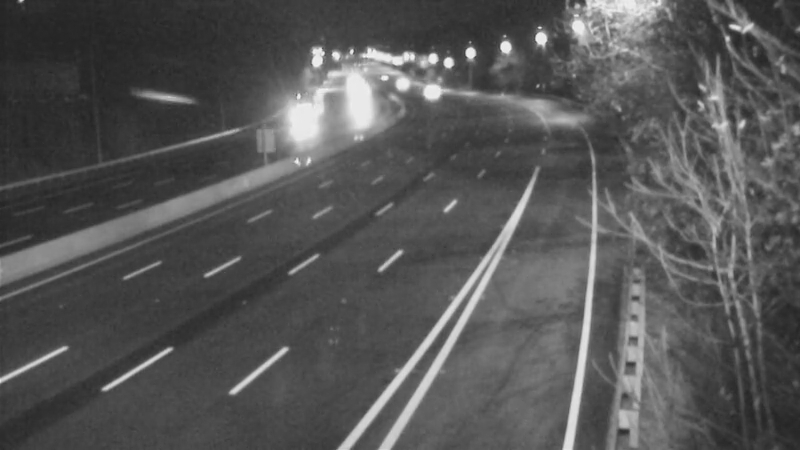vehicle: (402, 65, 452, 115), (370, 58, 420, 108), (279, 97, 329, 147), (330, 78, 380, 128)
